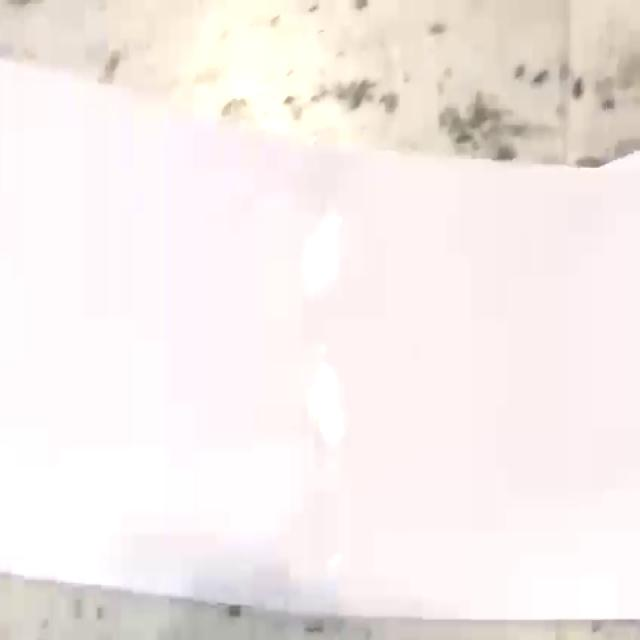road: (0, 61, 640, 620)
